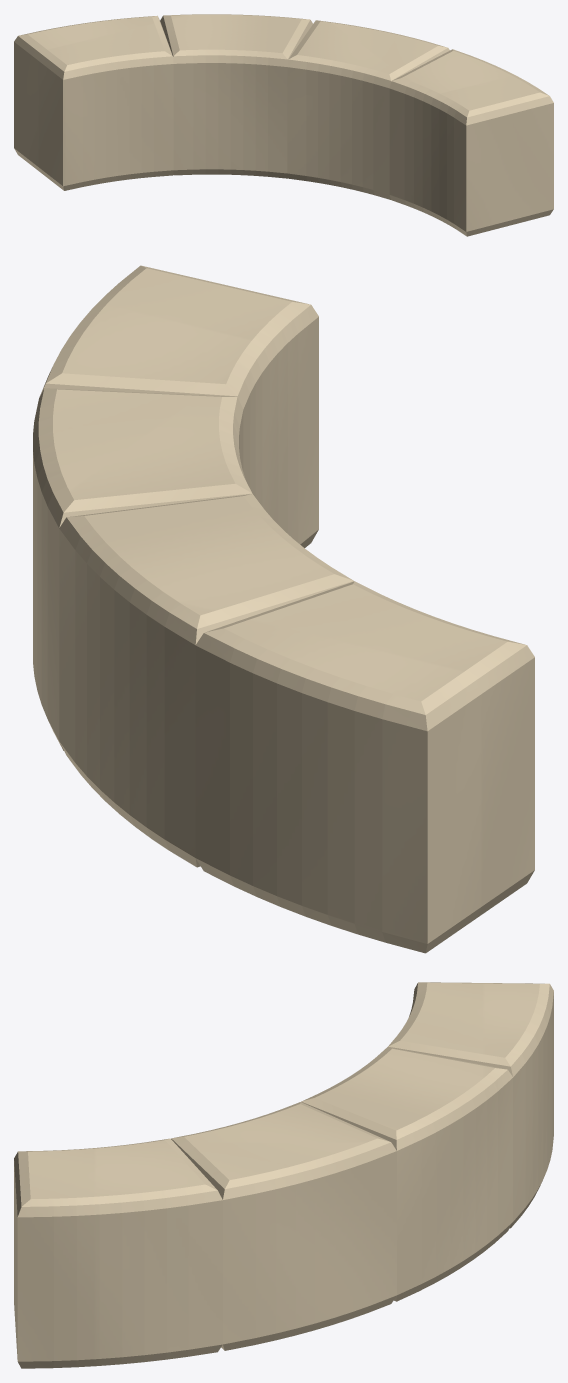
The model's file is flowerbed-edging-curve.glb.
The picture shows the model from 3 angles, top to bottom: view 1: azimuth 30°, elevation 25°; view 2: azimuth 150°, elevation 25°; view 3: azimuth 270°, elevation 25°; orthographic projection. The views are drawn at different scales.
Visible parts, largest first — view 1: flowerbed-edging-curve-tree-bench-stone; view 2: flowerbed-edging-curve-tree-bench-stone; view 3: flowerbed-edging-curve-tree-bench-stone.
Part boxes in pixels (left/top/right/bottom): flowerbed-edging-curve-tree-bench-stone: left=14, top=14, right=553, bottom=236; flowerbed-edging-curve-tree-bench-stone: left=33, top=265, right=534, bottom=953; flowerbed-edging-curve-tree-bench-stone: left=14, top=982, right=553, bottom=1368.
Bounding box in the file's own units: 1.39 × 0.48 × 1.39.
1 material, 1 textured.
